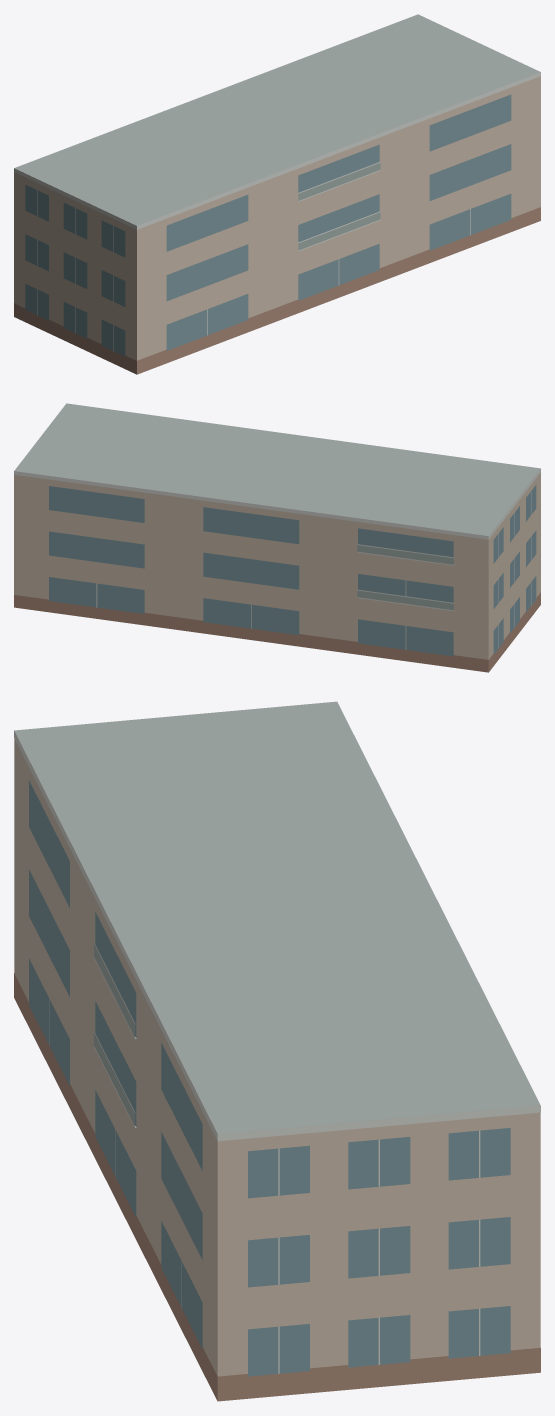
The model's file is survey-upis-32696860.glb.
The picture shows the model from 3 angles, top to bottom: view 1: azimuth 30°, elevation 25°; view 2: azimuth 150°, elevation 25°; view 3: azimuth 270°, elevation 25°; orthographic projection. The views are drawn at different scales.
Visible parts, largest first — view 1: survey-upis-32696860.tmp; view 2: survey-upis-32696860.tmp; view 3: survey-upis-32696860.tmp.
Boxes of the visible parts, left/top/right/bottom form: survey-upis-32696860.tmp: left=14, top=14, right=540, bottom=374; survey-upis-32696860.tmp: left=14, top=403, right=540, bottom=672; survey-upis-32696860.tmp: left=14, top=701, right=540, bottom=1401.
Size of the model in its own units: 31.79 by 9.15 by 16.36.
